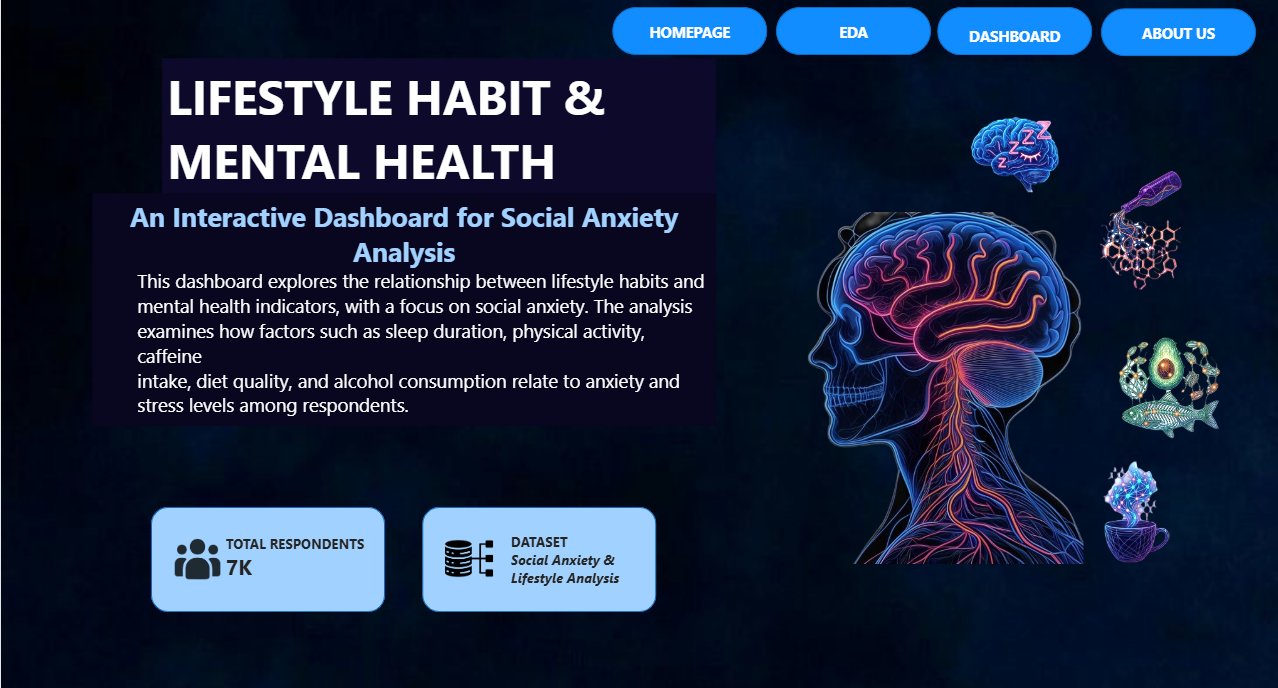

What the dashboard file says about the page in this screenshot:
{"tool":"powerbi","page":{"name":"Homepage","canvas":[1280,720],"ordinal":0},"visuals":[{"type":"shape","title":"DASHBOARD","box":[936.7,35,155,48.3],"z":0,"group":"g1"},{"type":"group","id":"g1","title":"Group 5","box":[936.7,35,155,48.3],"z":0,"group":"g7"},{"type":"textbox","box":[161.7,86.9,553.8,153.2],"z":0},{"type":"group","id":"g2","title":"Group 3","box":[421.4,535,234,105],"z":0,"group":"g9"},{"type":"textbox","box":[219.9,557.9,154.4,62.7],"z":0,"group":"g10"},{"type":"group","id":"g3","title":"Group 6","box":[774.6,35,155,48.3],"z":1000,"group":"g7"},{"type":"shape","title":"DASHBOARD","box":[774.6,35,155,48],"z":1000,"group":"g3"},{"type":"image","box":[783,240.1,320.9,352.3],"z":1000},{"type":"image","box":[174.1,557.9,45.8,59.1],"z":1000,"group":"g10"},{"type":"image","box":[431.1,562.7,73.6,48.3],"z":1000,"group":"g9"},{"type":"group","id":"g4","title":"Group 7","box":[611.4,35,155,48.3],"z":2000,"group":"g7"},{"type":"image","box":[1100.3,365.6,137.5,102.5],"z":2000},{"type":"shape","title":"DASHBOARD","box":[611.4,35,155,48],"z":3000,"group":"g4"},{"type":"group","id":"g5","title":"Group 8","box":[1100,36.7,155,48],"z":3000,"group":"g7"},{"type":"textbox","box":[959.6,48.5,110,30],"z":3000,"group":"g1"},{"type":"image","box":[1061.7,199.1,158,119.4],"z":3000},{"type":"image","box":[1041.2,487.4,187,103.8],"z":4000},{"type":"shape","title":"DASHBOARD","box":[1100,36.7,155,48],"z":5000,"group":"g5"},{"type":"image","box":[954.3,144.8,120.6,76],"z":5000},{"type":"textbox","box":[91.7,220.8,623.7,232.8],"z":6000},{"type":"textbox","box":[634.3,45.2,110,30],"z":7000,"group":"g4"},{"type":"group","id":"g6","title":"Group 5","box":[150,535,506.7,105],"z":7000},{"type":"group","id":"g7","title":"Group 9","box":[611.4,35,643.6,49.7],"z":8000},{"type":"textbox","box":[797.5,45.2,110,30],"z":9000,"group":"g3"},{"type":"textbox","box":[1122.9,46.9,110,30],"z":11000,"group":"g5"},{"type":"group","id":"g8","title":"Group 2","box":[150,535,234,105],"z":15000,"group":"g6"},{"type":"shape","title":"TOTAL RESPONDENTS","box":[150,535,234,105],"z":16000,"group":"g8"},{"type":"group","id":"g9","title":"Group 4","box":[421.4,535,234,105],"z":16000,"group":"g6"},{"type":"shape","title":"TOTAL RESPONDENTS","box":[421.4,535,234,105],"z":17000,"group":"g2"},{"type":"textbox","box":[504.6,556.7,131.5,68.8],"z":18000,"group":"g2"},{"type":"group","id":"g10","title":"Group 1","box":[174.1,557.9,200.3,62.7],"z":19000,"group":"g8"}]}

Visuals, with their boxes on the page's 1280x720 design canvas (x1, y1, x2, y2). These are canvas units, not pixel positions in the 1278x688 screenshot, which may show the page scaled, cropped or inside an application window:
"DASHBOARD" shape: <box>937,35,1092,83</box>
"Group 5" group: <box>937,35,1092,83</box>
textbox: <box>162,87,716,240</box>
"Group 3" group: <box>421,535,655,640</box>
textbox: <box>220,558,374,621</box>
"Group 6" group: <box>775,35,930,83</box>
"DASHBOARD" shape: <box>775,35,930,83</box>
image: <box>783,240,1104,592</box>
image: <box>174,558,220,617</box>
image: <box>431,563,505,611</box>
"Group 7" group: <box>611,35,766,83</box>
image: <box>1100,366,1238,468</box>
"DASHBOARD" shape: <box>611,35,766,83</box>
"Group 8" group: <box>1100,37,1255,85</box>
textbox: <box>960,48,1070,78</box>
image: <box>1062,199,1220,318</box>
image: <box>1041,487,1228,591</box>
"DASHBOARD" shape: <box>1100,37,1255,85</box>
image: <box>954,145,1075,221</box>
textbox: <box>92,221,715,454</box>
textbox: <box>634,45,744,75</box>
"Group 5" group: <box>150,535,657,640</box>
"Group 9" group: <box>611,35,1255,85</box>
textbox: <box>798,45,908,75</box>
textbox: <box>1123,47,1233,77</box>
"Group 2" group: <box>150,535,384,640</box>
"TOTAL RESPONDENTS" shape: <box>150,535,384,640</box>
"Group 4" group: <box>421,535,655,640</box>
"TOTAL RESPONDENTS" shape: <box>421,535,655,640</box>
textbox: <box>505,557,636,626</box>
"Group 1" group: <box>174,558,374,621</box>
